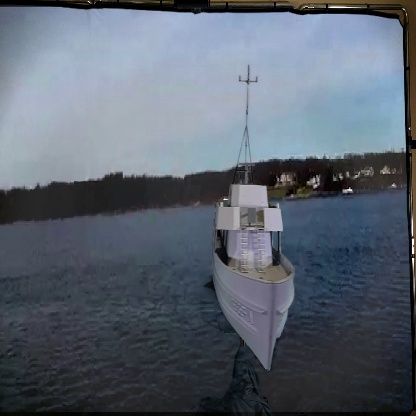YP689: (208, 63, 297, 370)
